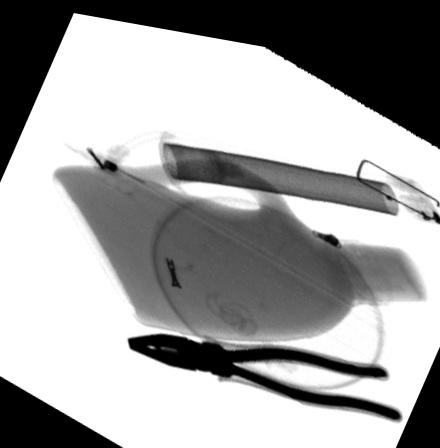Pliers: (124, 325, 403, 408)
